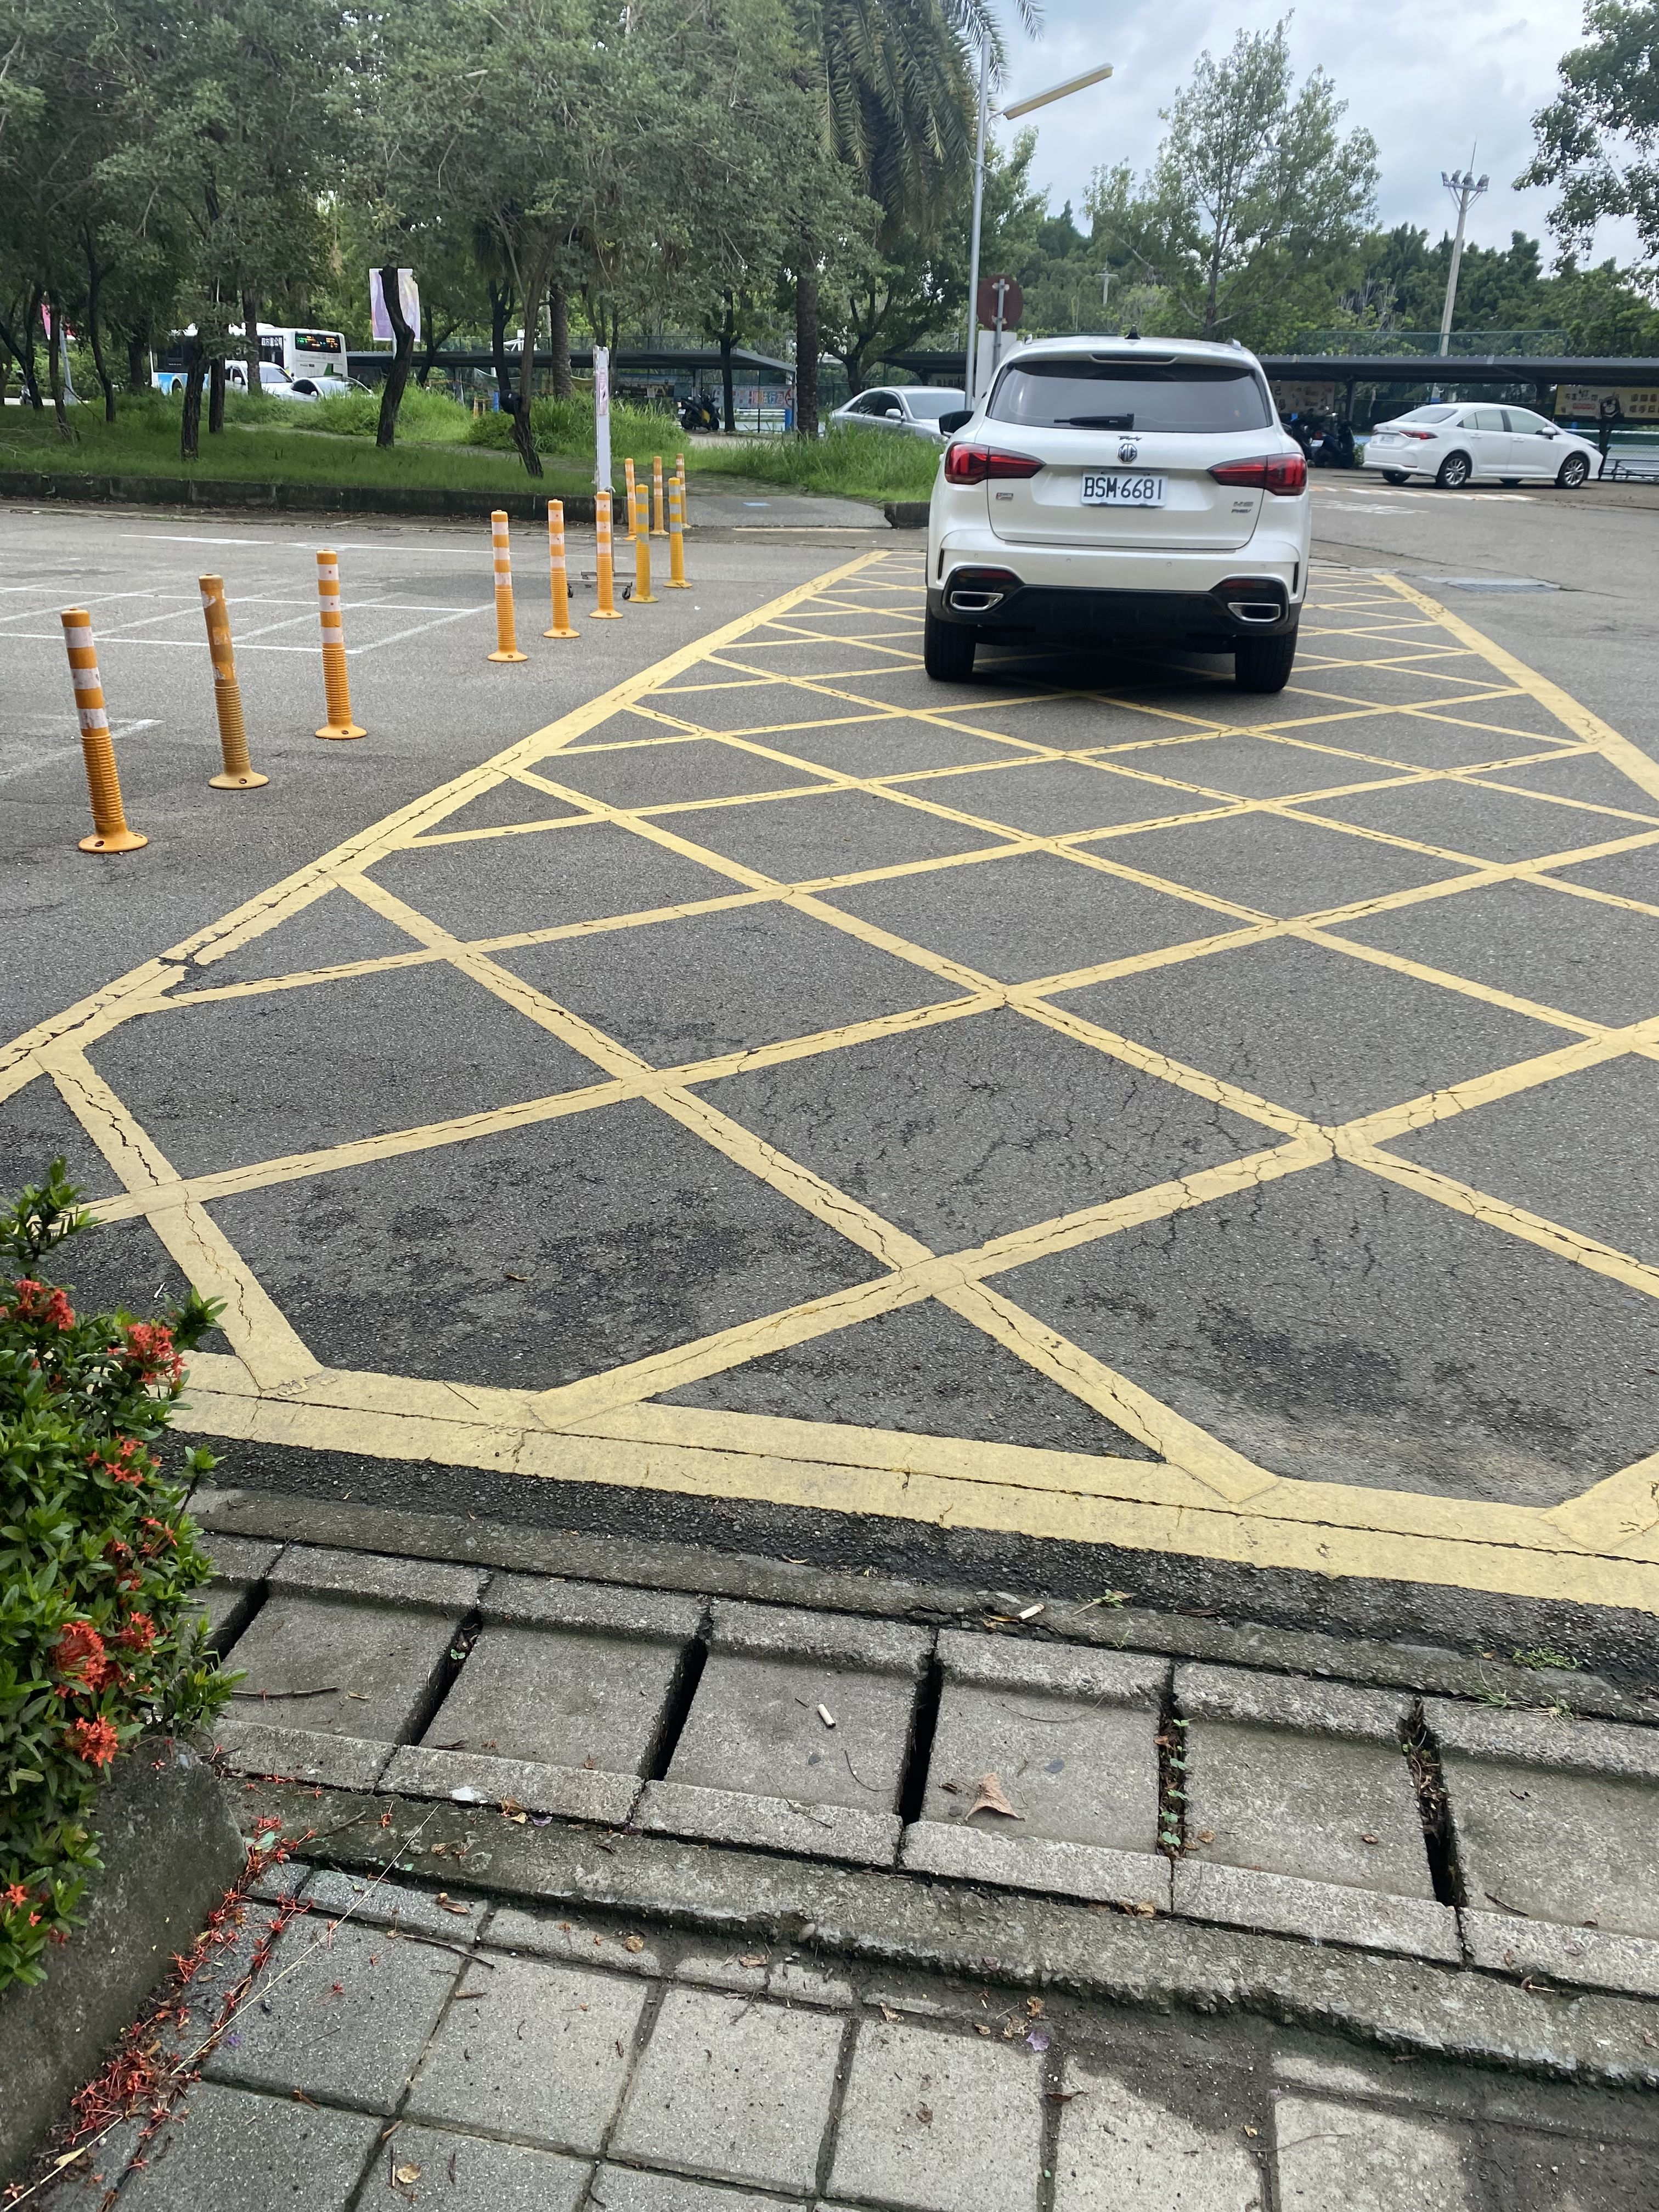sidewalk: (12, 1895, 1659, 2212)
